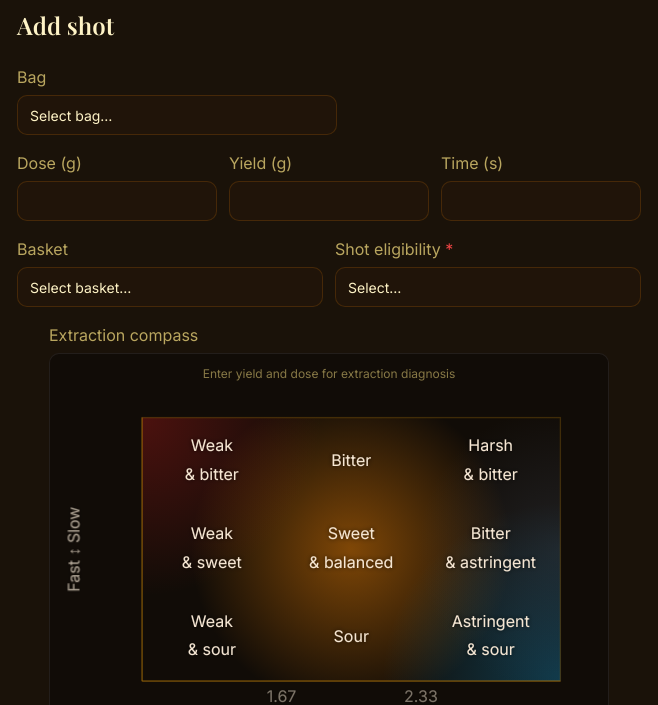
Test: BrewLogAdd › auto-populates dose field when defaults query returns dose_in_g
Select the bag to enable the defaults query
Step 1. Select "Blue Bottle — Kenya Kiambu" in the dropdown labelled "Bag" → (177, 115), box [17,95,337,135]
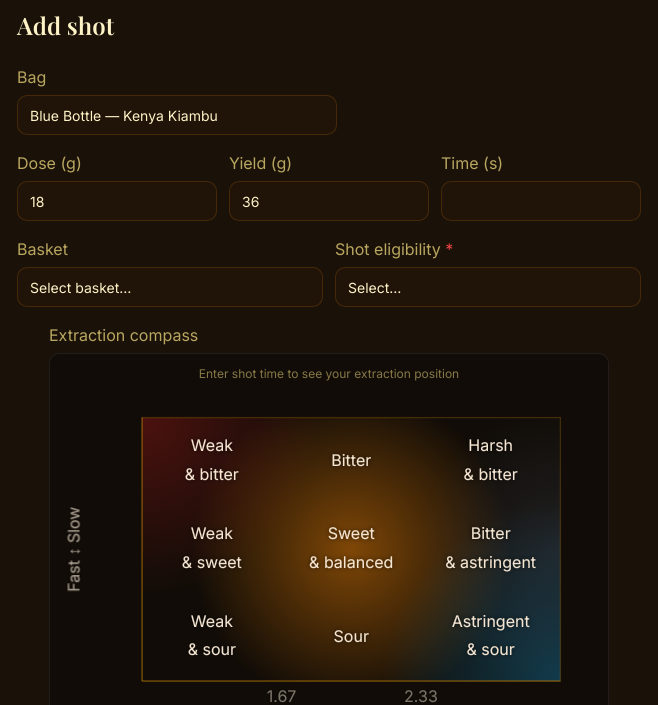
Check: the number field labelled "Dose (g)" holds "18", box [17,181,217,221]
